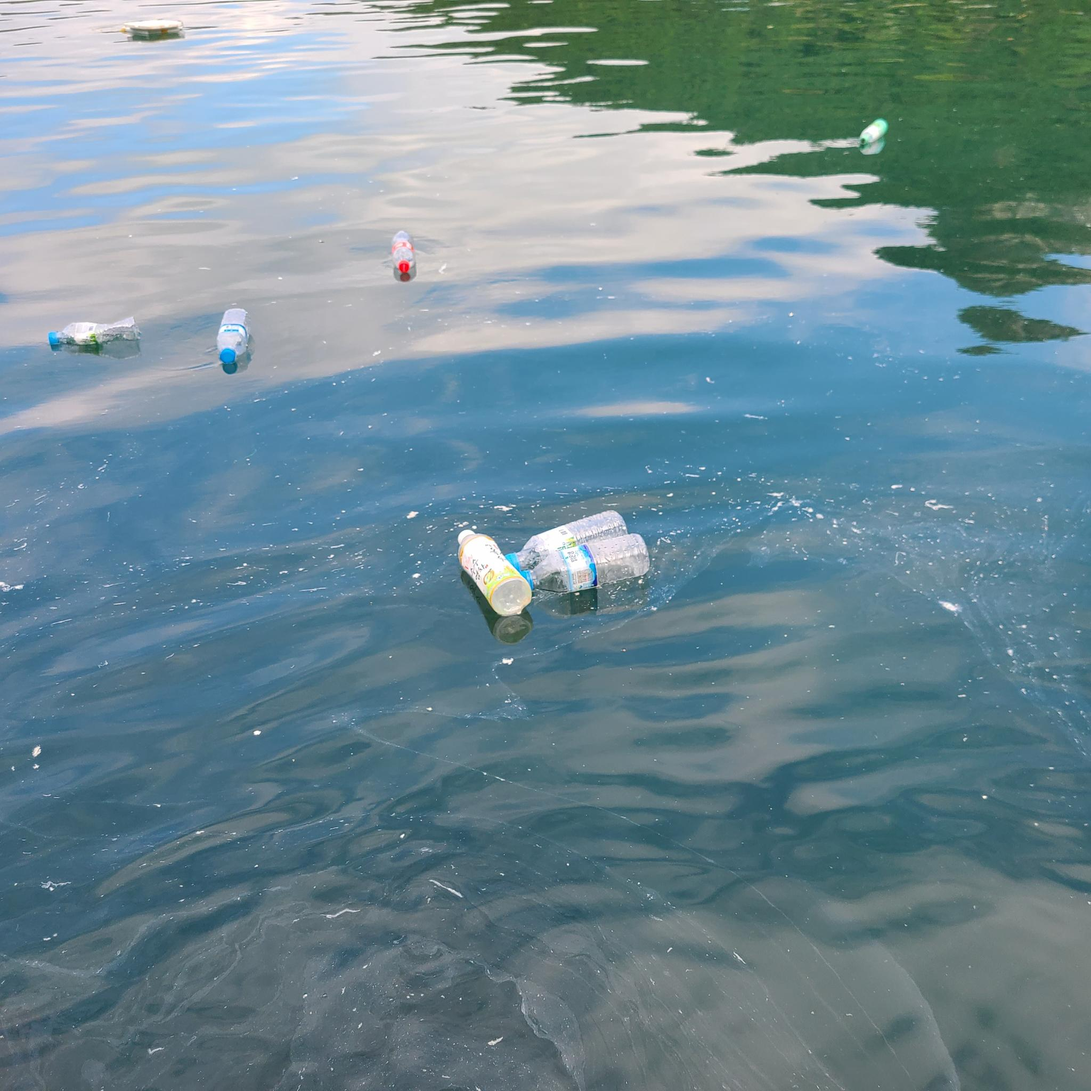sampah_terapung: (520, 533, 650, 594), (504, 510, 629, 573), (458, 530, 533, 617), (48, 316, 142, 346), (217, 308, 251, 365), (390, 231, 416, 274), (859, 119, 889, 145), (124, 21, 182, 30), (123, 27, 181, 35)
